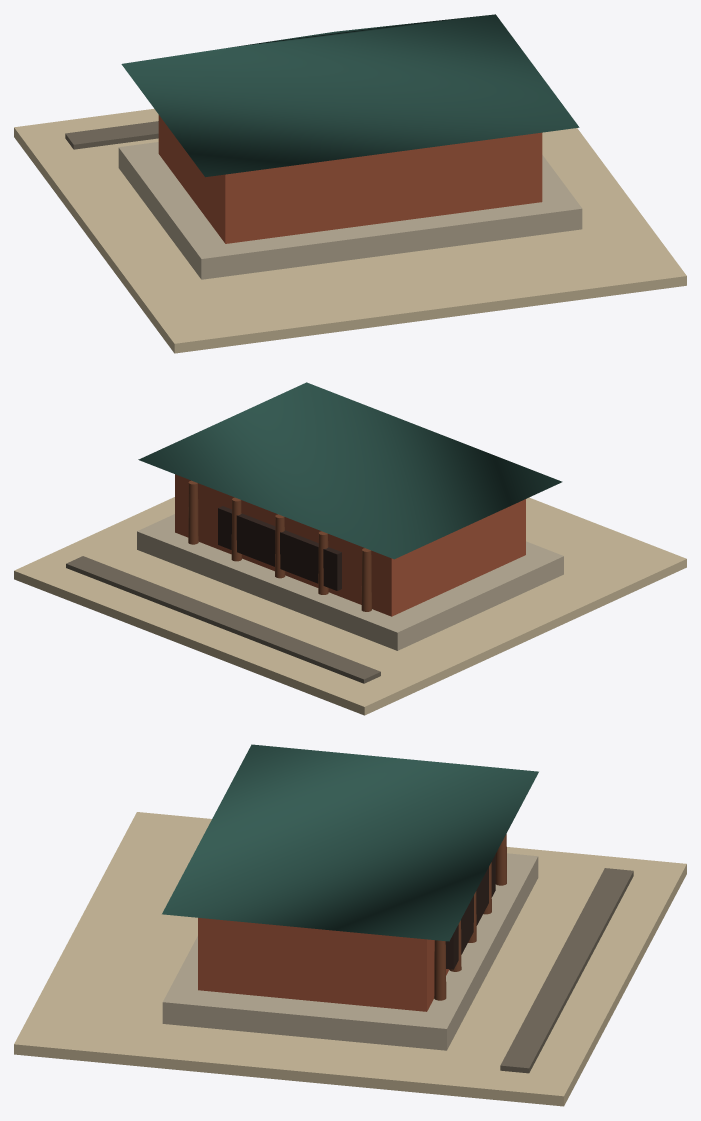
Rendered from model-medium.glb.
3 views of the same model, one above another, from view 1: azimuth 30°, elevation 25°; view 2: azimuth 150°, elevation 25°; view 3: azimuth 270°, elevation 25° (orthographic). The views are drawn at different scales.
Parts seen in each view (by area): view 1: context_site_plinth, sweeping_tiled_roof, main_hall_wall_volume, raised_ceremonial_platform, front_scale_strip; view 2: context_site_plinth, sweeping_tiled_roof, raised_ceremonial_platform, main_hall_wall_volume, front_scale_strip, central_shadow_door, front_column_5, front_column_1; view 3: context_site_plinth, sweeping_tiled_roof, raised_ceremonial_platform, main_hall_wall_volume, front_scale_strip, central_shadow_door, front_column_5.
Boxes of the visible parts, x1,y1,x2,y2 form: context_site_plinth: (14,109,686,353); sweeping_tiled_roof: (121,14,579,177); main_hall_wall_volume: (158,115,542,243); raised_ceremonial_platform: (118,142,582,279); front_scale_strip: (65,121,158,149); context_site_plinth: (14,497,686,715); sweeping_tiled_roof: (138,382,562,559); raised_ceremonial_platform: (137,514,563,650); main_hall_wall_volume: (175,474,525,616); front_scale_strip: (66,556,380,683); central_shadow_door: (218,506,341,590); front_column_5: (188,480,198,544); front_column_1: (361,548,371,611); context_site_plinth: (14,812,686,1106); sweeping_tiled_roof: (162,744,538,941); raised_ceremonial_platform: (162,853,538,1050); main_hall_wall_volume: (198,918,449,1011); front_scale_strip: (500,868,633,1073); central_shadow_door: (445,854,495,969); front_column_5: (434,940,446,1000).
Size of the model in its own units: 9.55 by 2.62 by 9.55.
